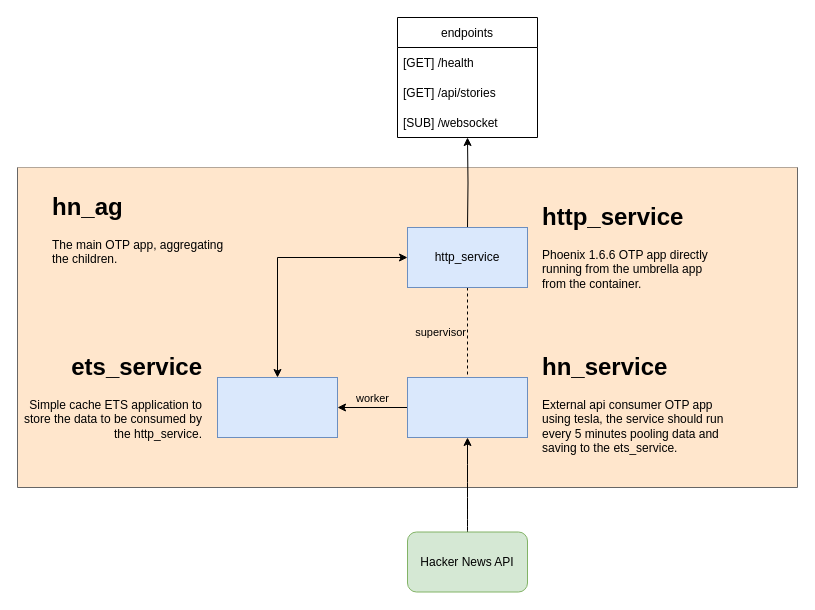
Image size: 815x610. Some labels were removed from this diagram. Each missing label, with the centre of its shape:
ets_service: the point at 277,407
hn_service: the point at 467,407
